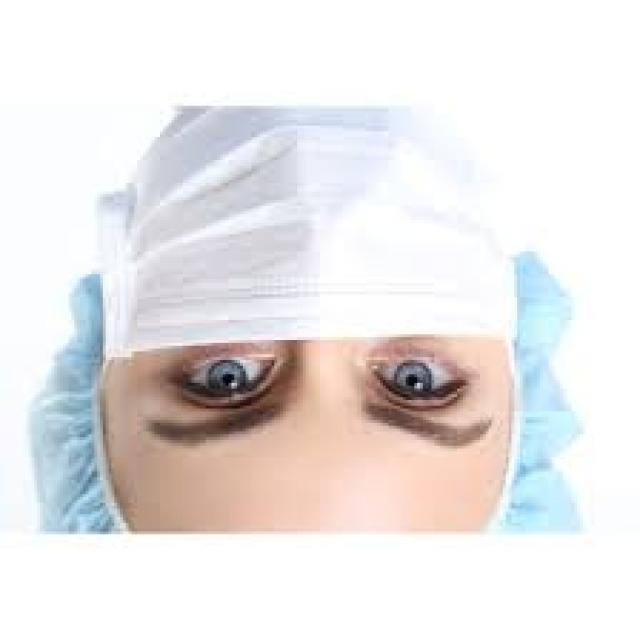mask: (89, 77, 509, 379)
